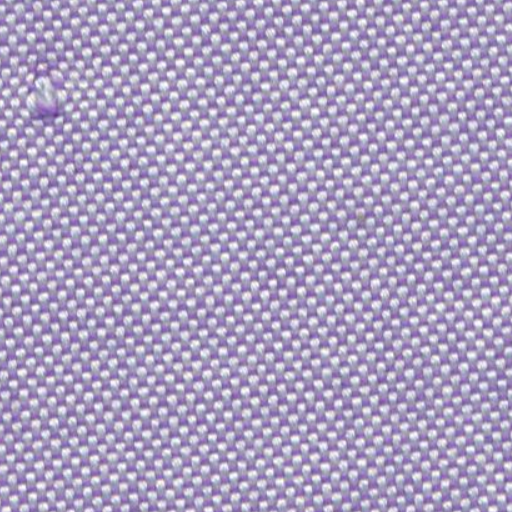MianQiu: (12, 54, 88, 138)
